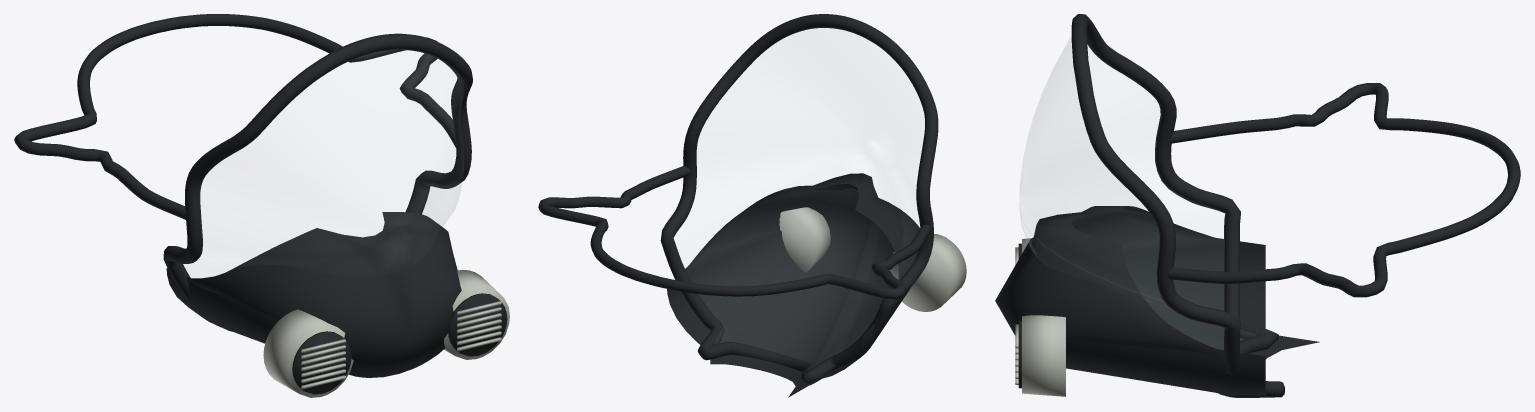
Rendered from hazmat-mask.glb.
The picture shows the model from 3 angles, left to right: view 1: azimuth 30°, elevation 25°; view 2: azimuth 150°, elevation 25°; view 3: azimuth 270°, elevation 25°; orthographic projection. The views are drawn at different scales.
Parts seen in each view (by area): view 1: Foundation.Mask.FittedLowerCup, Foundation.Mask.ContinuousSeal, Foundation.Mask.SideStrap-1, Foundation.Mask.SideStrap1, Foundation.Mask.Filter-1, Foundation.Mask.FilterGrid-1, Foundation.Mask.FilterGrid1, Foundation.Mask.ClearVisor, Foundation.Mask.Filter1; view 2: Foundation.Mask.FittedLowerCup, Foundation.Mask.ContinuousSeal, Foundation.Mask.SideStrap-1, Foundation.Mask.SideStrap1, Foundation.Mask.Filter-1, Foundation.Mask.Filter1; view 3: Foundation.Mask.FittedLowerCup, Foundation.Mask.ClearVisor, Foundation.Mask.ContinuousSeal, Foundation.Mask.SideStrap1, Foundation.Mask.SideStrap-1, Foundation.Mask.Filter1.
Part boxes in pixels (box(x1,y1,x2,y2)): Foundation.Mask.FittedLowerCup: box(166, 212, 461, 377); Foundation.Mask.ContinuousSeal: box(163, 33, 472, 331); Foundation.Mask.SideStrap-1: box(14, 21, 186, 219); Foundation.Mask.SideStrap1: box(155, 14, 456, 147); Foundation.Mask.Filter-1: box(263, 309, 353, 397); Foundation.Mask.FilterGrid-1: box(292, 331, 351, 394); Foundation.Mask.FilterGrid1: box(448, 293, 507, 356); Foundation.Mask.ClearVisor: box(416, 90, 463, 231); Foundation.Mask.Filter1: box(444, 270, 509, 359); Foundation.Mask.FittedLowerCup: box(667, 173, 919, 397); Foundation.Mask.ContinuousSeal: box(660, 14, 938, 385); Foundation.Mask.SideStrap-1: box(655, 224, 931, 299); Foundation.Mask.SideStrap1: box(538, 166, 690, 286); Foundation.Mask.Filter-1: box(889, 234, 966, 311); Foundation.Mask.Filter1: box(779, 207, 830, 272); Foundation.Mask.FittedLowerCup: box(995, 206, 1319, 395); Foundation.Mask.ClearVisor: box(1019, 39, 1224, 349); Foundation.Mask.ContinuousSeal: box(1071, 14, 1284, 397); Foundation.Mask.SideStrap1: box(1167, 169, 1520, 297); Foundation.Mask.SideStrap-1: box(1170, 83, 1520, 174); Foundation.Mask.Filter1: box(1022, 315, 1065, 396).
Size of the model in its own units: 0.2909 by 0.2332 by 0.3111.
